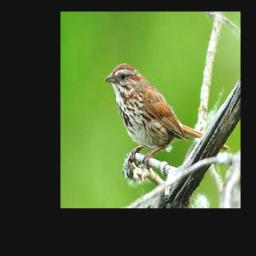Sparrow: (103, 62, 230, 171)
